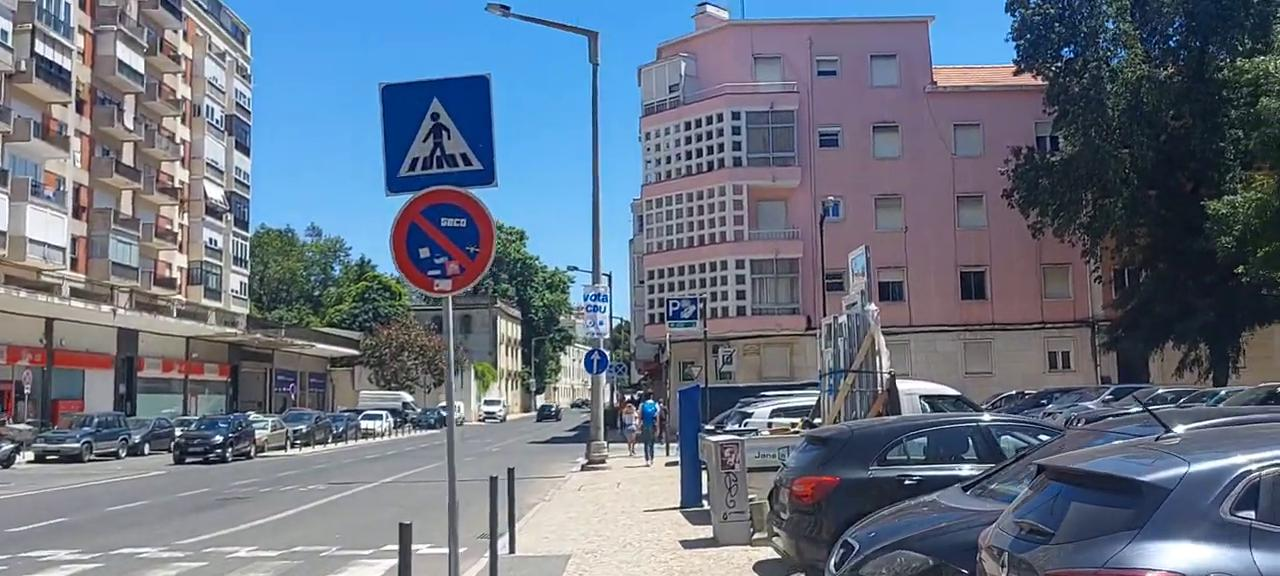estacionamento proibido: (388, 188, 497, 298)
passagem para peoes: (375, 73, 503, 199)
